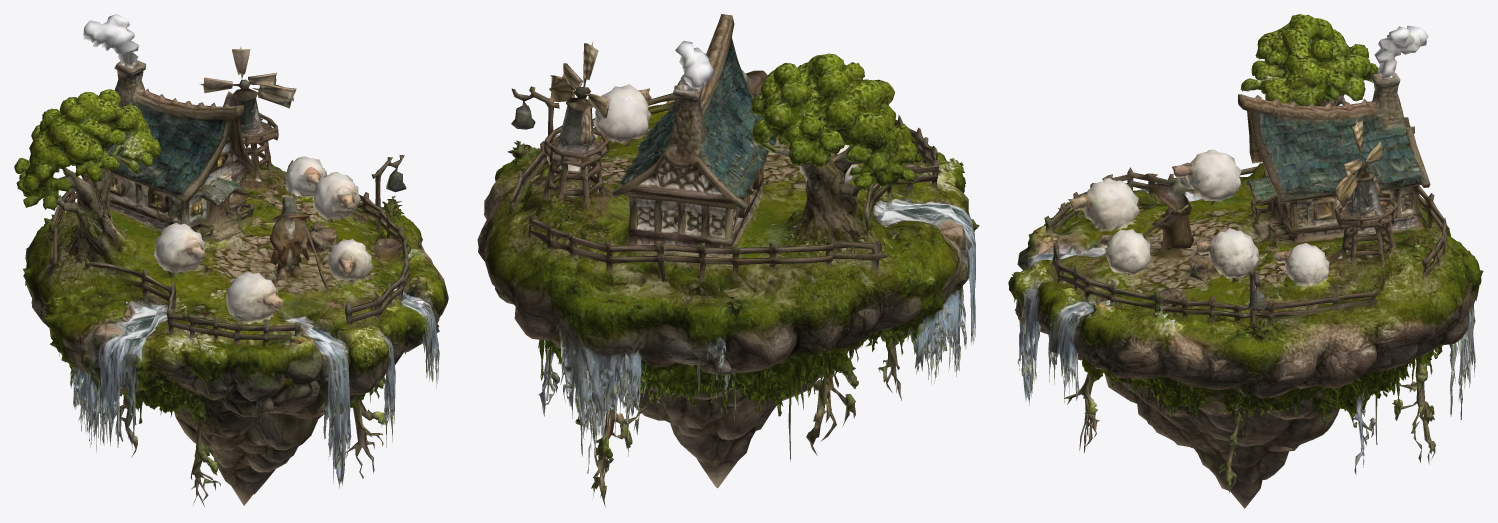
Rendered from Floating_Island_Farm.glb.
3 views of the same model, side by side, from view 1: azimuth 30°, elevation 25°; view 2: azimuth 150°, elevation 25°; view 3: azimuth 270°, elevation 25° (orthographic). The views are drawn at different scales.
Parts seen in each view (by area): view 1: Floating_Island_Farm; view 2: Floating_Island_Farm; view 3: Floating_Island_Farm.
Part boxes in pixels (x1,y1,x2,y2): Floating_Island_Farm: [14, 14, 448, 506]; Floating_Island_Farm: [477, 14, 979, 507]; Floating_Island_Farm: [1008, 14, 1483, 508].
Bounding box in the file's own units: 1.67 × 1.91 × 1.8.
Materials: 1 (1 with a texture image).
